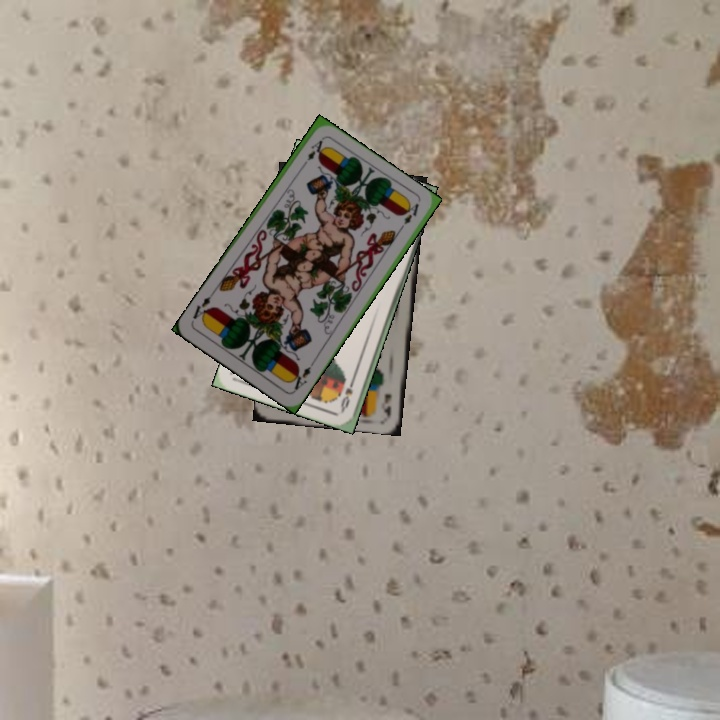EA: (286, 358, 317, 394), (297, 136, 325, 171)
EK: (380, 389, 394, 418)
SO: (336, 374, 357, 413)
